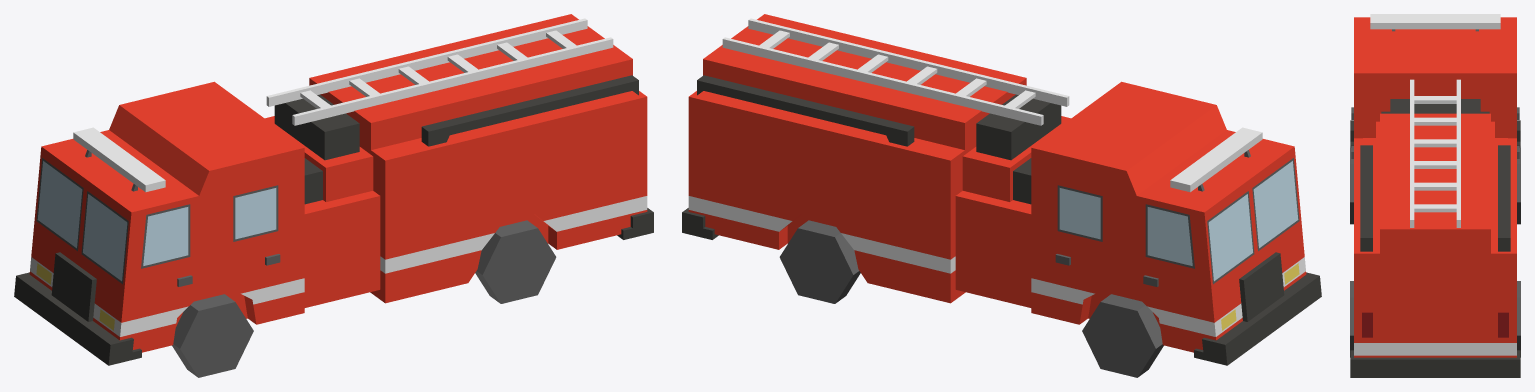
Rendered from Fire_Truck.fbx.
3 views of the same model, side by side, from view 1: azimuth 30°, elevation 25°; view 2: azimuth 150°, elevation 25°; view 3: azimuth 270°, elevation 25° (orthographic). The views are drawn at different scales.
Parts seen in each view (by area): view 1: Fire_Truck; view 2: Fire_Truck; view 3: Fire_Truck.
Boxes of the visible parts, x1,y1,x2,y2 form: Fire_Truck: (14,14,653,377); Fire_Truck: (682,14,1321,377); Fire_Truck: (1350,14,1520,377).
Size of the model in its own units: 11.09 by 3.99 by 3.33.
1 material, 1 textured.
